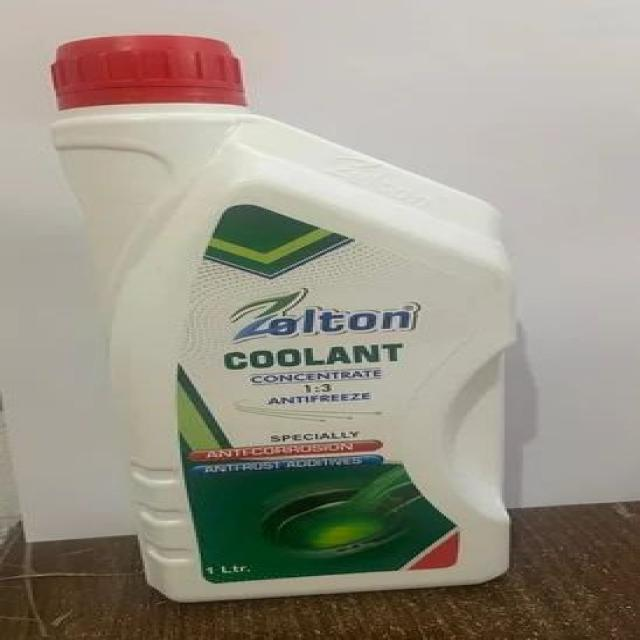coolant: (38, 32, 552, 596)
